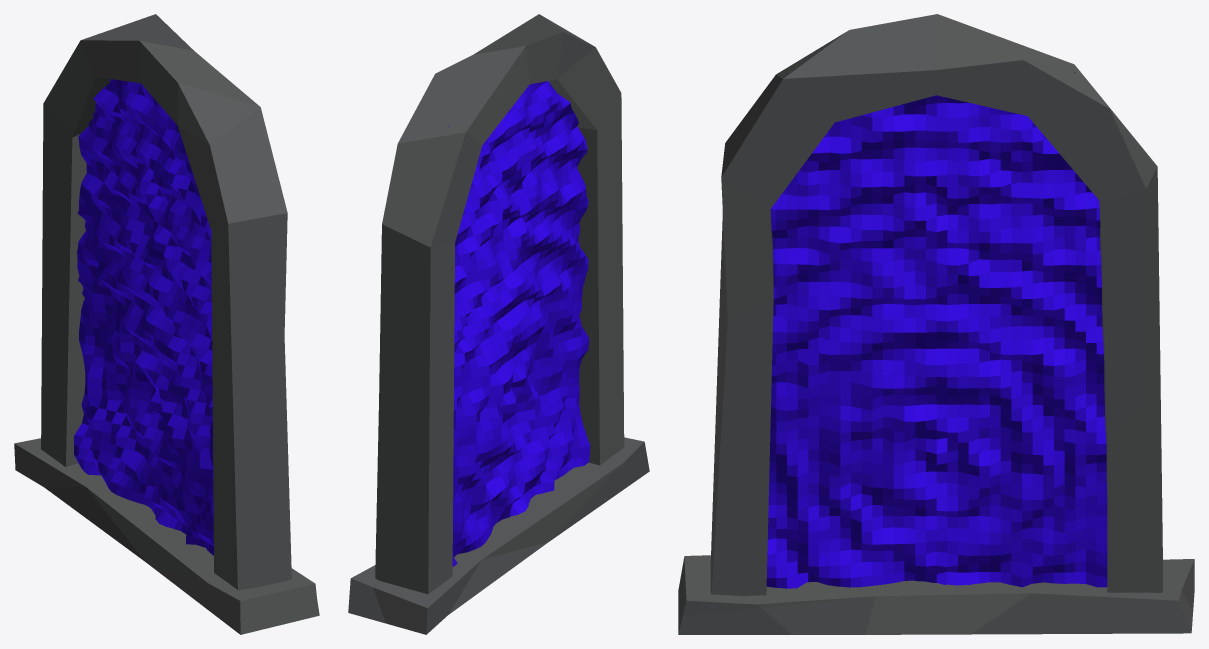
Rendered from Portal.fbx.
The picture shows the model from 3 angles, left to right: view 1: azimuth 30°, elevation 25°; view 2: azimuth 150°, elevation 25°; view 3: azimuth 270°, elevation 25°; orthographic projection. The views are drawn at different scales.
Parts seen in each view (by area): view 1: Cube.005, Plane.001; view 2: Cube.005, Plane.001; view 3: Plane, Cube.005.
Boxes of the visible parts, x1,y1,x2,y2 form: Cube.005: (14, 14, 319, 634); Plane.001: (74, 79, 213, 555); Cube.005: (348, 14, 649, 634); Plane.001: (447, 81, 590, 566); Plane: (766, 95, 1107, 588); Cube.005: (678, 14, 1194, 634).
Bounding box in the file's own units: 66.4 × 377 × 302.
